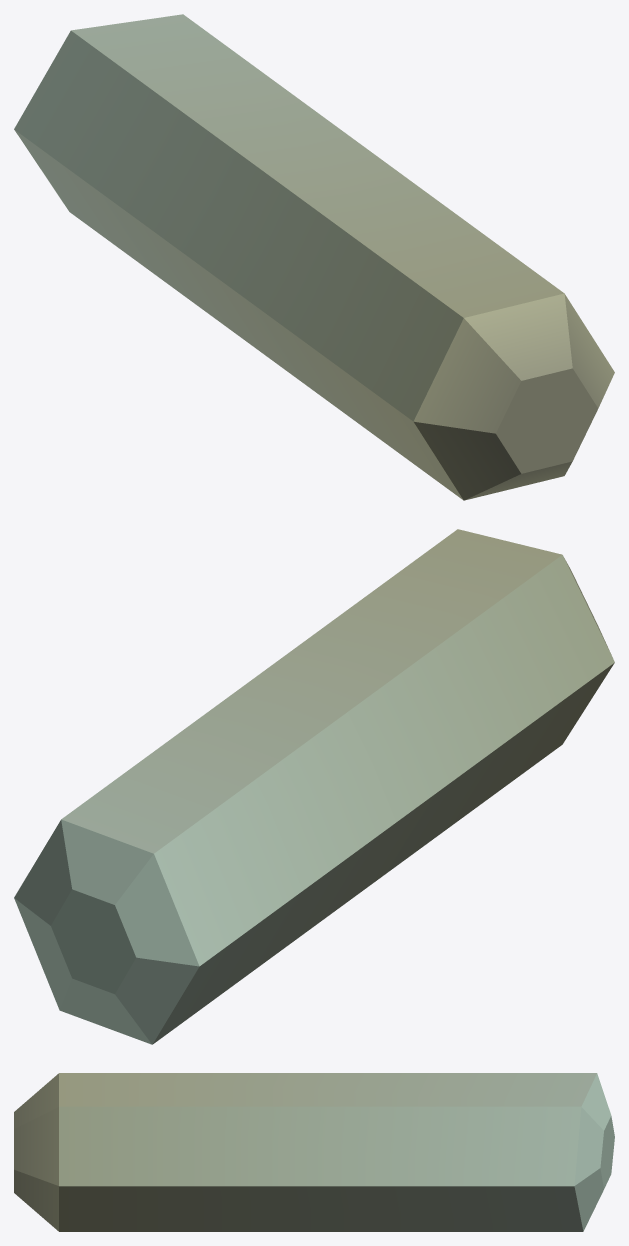
Rendered from ColoredCrystal.008.glb.
The picture shows the model from 3 angles, top to bottom: view 1: azimuth 30°, elevation 25°; view 2: azimuth 150°, elevation 25°; view 3: azimuth 270°, elevation 25°; orthographic projection. The views are drawn at different scales.
Parts seen in each view (by area): view 1: ColoredCrystal.008; view 2: ColoredCrystal.008; view 3: ColoredCrystal.008.
Boxes of the visible parts, x1=… form: ColoredCrystal.008: x1=14, y1=14, x2=614, y2=500; ColoredCrystal.008: x1=14, y1=529, x2=614, y2=1044; ColoredCrystal.008: x1=14, y1=1073, x2=614, y2=1231.
Size of the model in its own units: 150 by 130 by 565.
